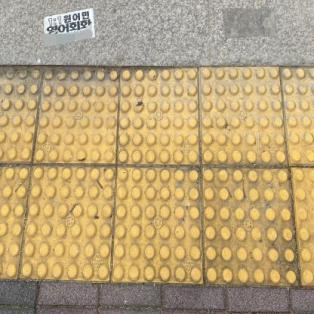Podoctatil: (0, 49, 313, 298)
